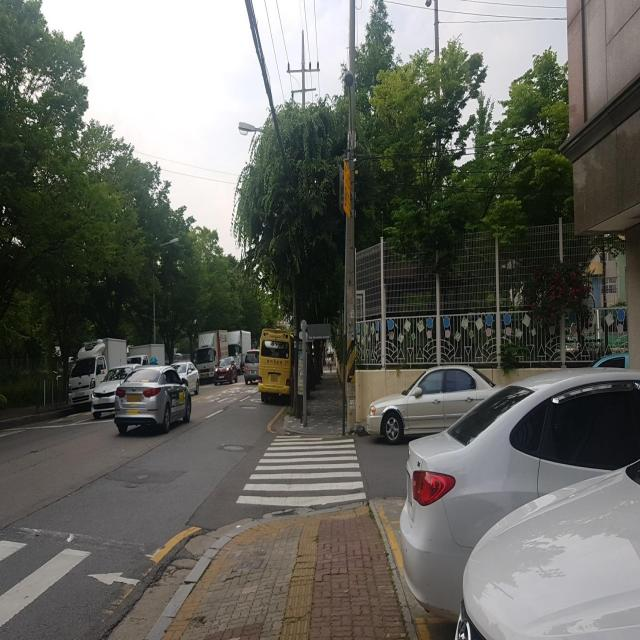횡단보도: (0, 536, 155, 639), (235, 435, 367, 508)
